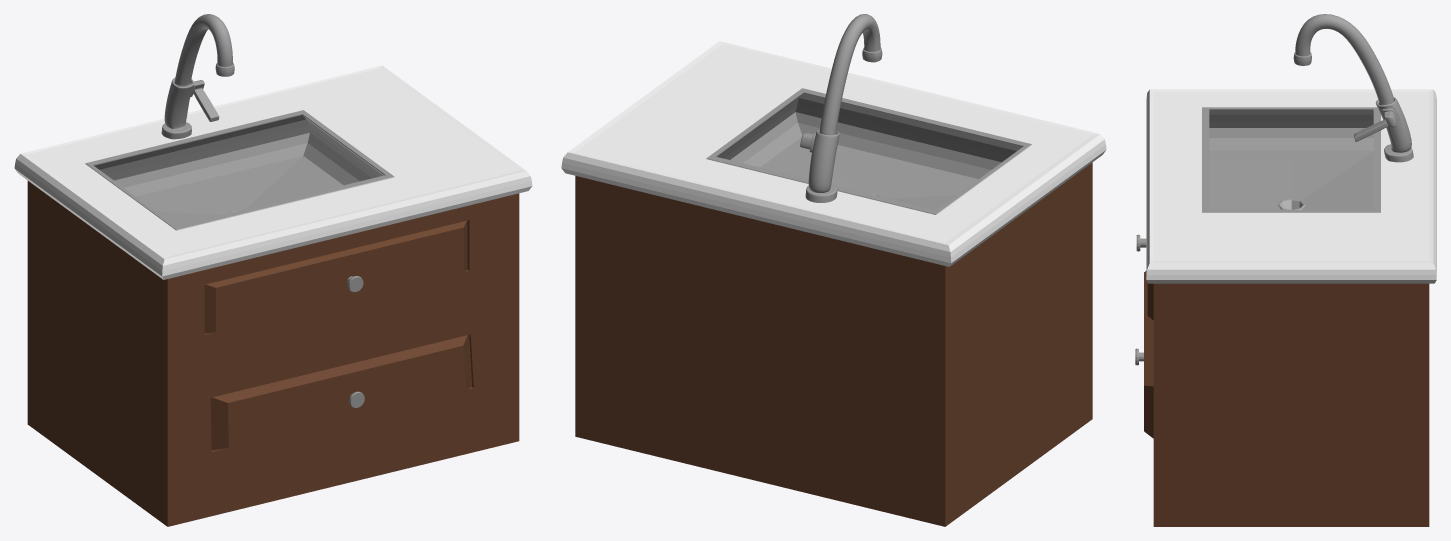
Rendered from Pia.fbx.
3 views of the same model, side by side, from view 1: azimuth 30°, elevation 25°; view 2: azimuth 150°, elevation 25°; view 3: azimuth 270°, elevation 25° (orthographic). The views are drawn at different scales.
Visible parts, largest first — view 1: Cube.115, Cube.116; view 2: Cube.115, Cube.116; view 3: Cube.115, Cube.116.
Boxes of the visible parts, x1,y1,x2,y2 form: Cube.115: [14, 65, 532, 526]; Cube.116: [161, 14, 234, 139]; Cube.115: [561, 41, 1106, 526]; Cube.116: [800, 14, 882, 202]; Cube.115: [1144, 89, 1436, 526]; Cube.116: [1293, 14, 1413, 162].
Size of the model in its own units: 220 by 235 by 158.
